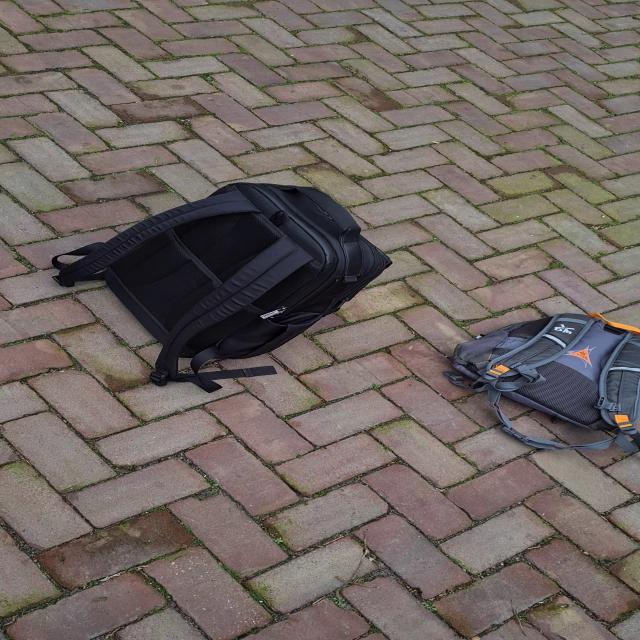backpack: (79, 175, 402, 369), (440, 309, 638, 436)
